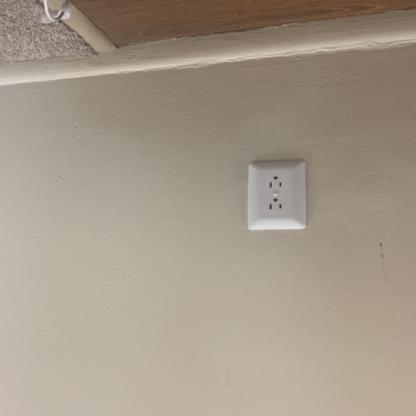OUTLET: (247, 159, 308, 231)
